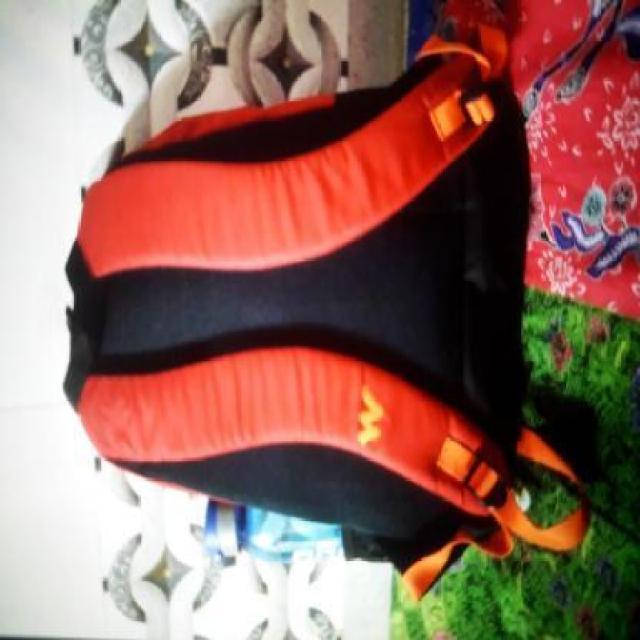backpack: (54, 16, 535, 604)
